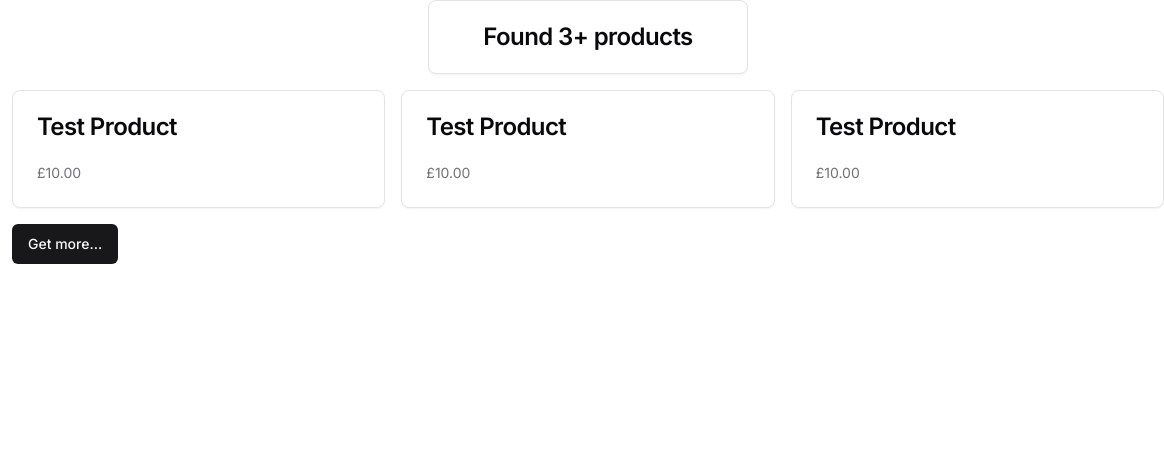
Test: When fetching more products, if the number of products returned is < fetch size, the `Get more...` button should be replaced by the `End of results` card
Click the button "Get more...". click: point(65, 244)
box: [12,224,118,264]
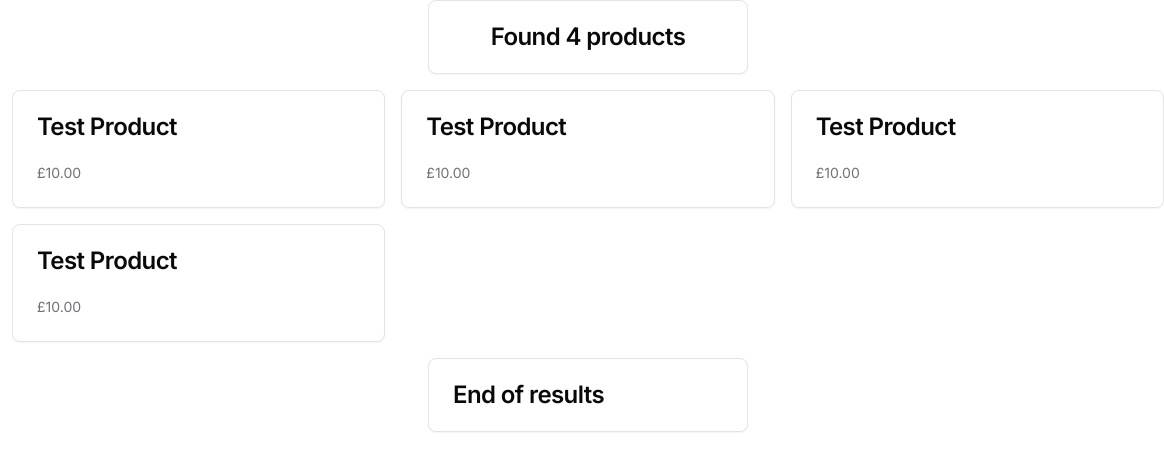
Now the button "Get more..." is gone
Now the heading "End of results" is shown, box [453,380,604,409]
